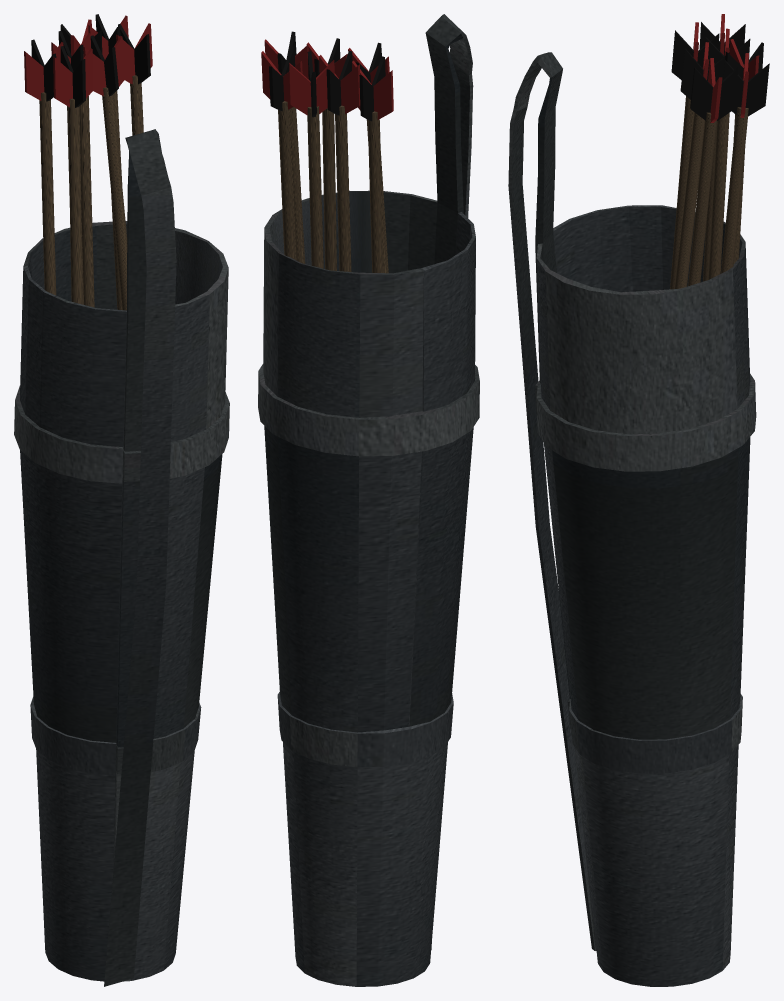
Rendered from Quiver.fbx.
3 views of the same model, side by side, from view 1: azimuth 30°, elevation 25°; view 2: azimuth 150°, elevation 25°; view 3: azimuth 270°, elevation 25° (orthographic). The views are drawn at different scales.
Parts seen in each view (by area): view 1: pCylinder14; view 2: pCylinder14; view 3: pCylinder14.
Part boxes in pixels (x1,y1,x2,y2): pCylinder14: [14, 14, 229, 986]; pCylinder14: [258, 14, 479, 986]; pCylinder14: [508, 14, 769, 986].
Size of the model in its own units: 1.81 by 8.39 by 2.15.
6 materials, 3 textured.
